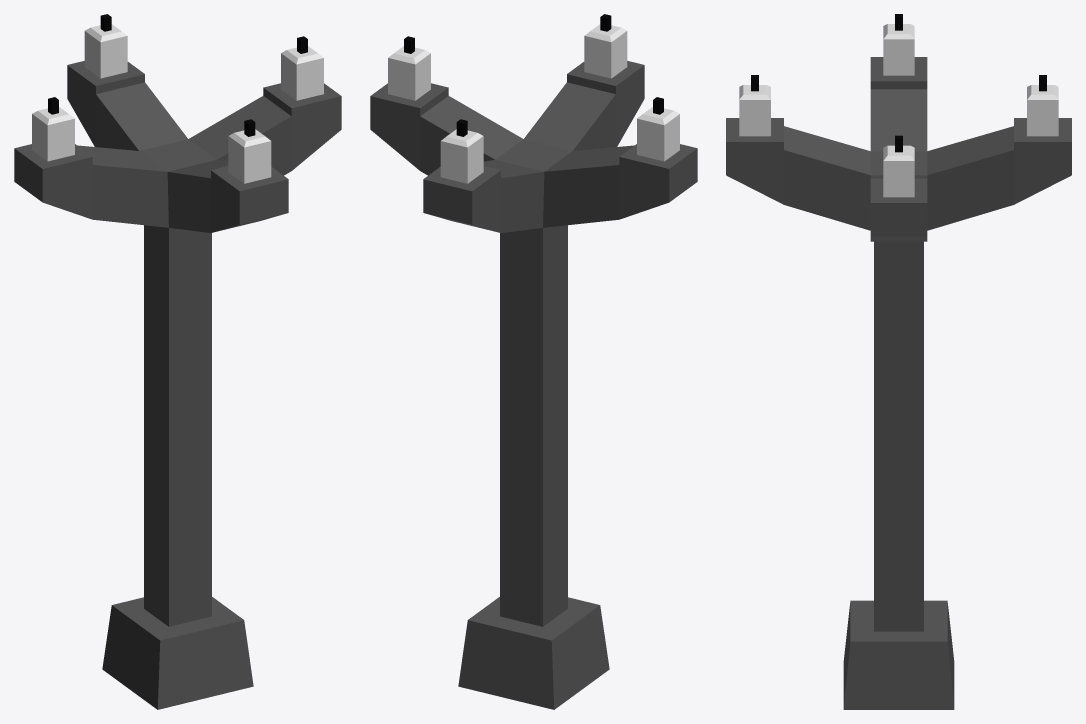
Rendered from lightpost.glb.
3 views of the same model, side by side, from view 1: azimuth 30°, elevation 25°; view 2: azimuth 150°, elevation 25°; view 3: azimuth 270°, elevation 25° (orthographic).
Visible parts, largest first — view 1: LightPost; view 2: LightPost; view 3: LightPost.
Boxes of the visible parts, x1=… form: LightPost: x1=14, y1=14, x2=341, y2=709; LightPost: x1=370, y1=14, x2=697, y2=709; LightPost: x1=726, y1=14, x2=1071, y2=709.
Size of the model in its own units: 1.91 by 3.73 by 1.91.
1 material, 1 textured.
